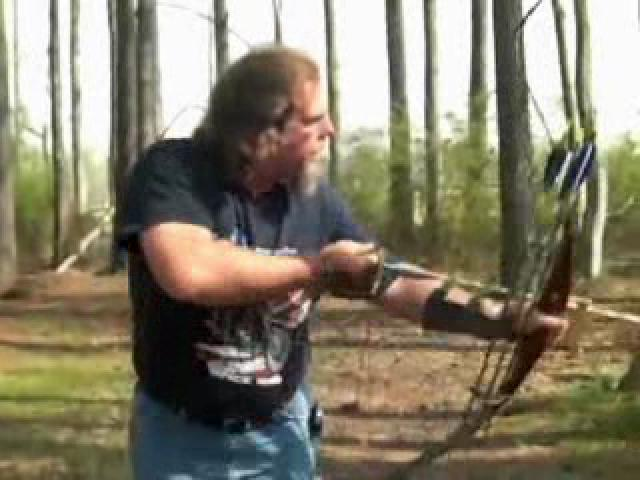I: (97, 43, 589, 480)
